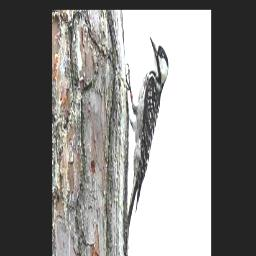Woodpecker: (124, 35, 170, 251)
